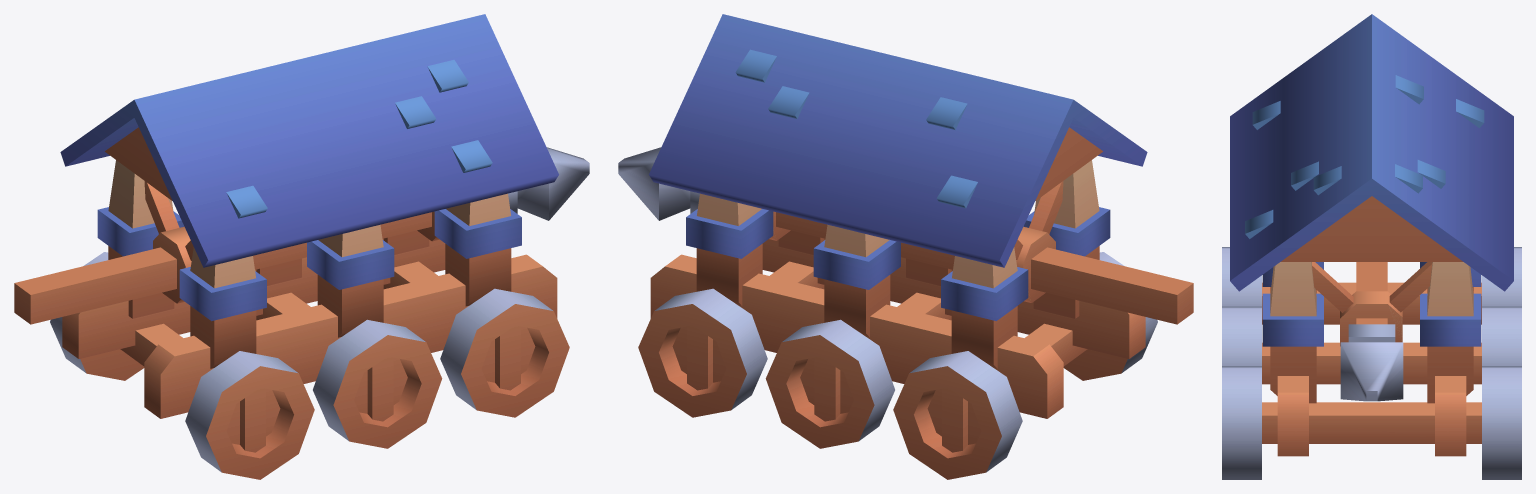
Rendered from k-castle-siege-ram.glb.
3 views of the same model, side by side, from view 1: azimuth 30°, elevation 25°; view 2: azimuth 150°, elevation 25°; view 3: azimuth 270°, elevation 25° (orthographic). The views are drawn at different scales.
Visible parts, largest first — view 1: siege-ram, wheel (×4), ram; view 2: siege-ram, wheel (×4), ram; view 3: siege-ram, wheel (×6), ram.
Part boxes in pixels (left/top/right/bottom): siege-ram: left=60, top=14, right=558, bottom=418; wheel (×4): left=50, top=252, right=569, bottom=479; ram: left=14, top=147, right=589, bottom=324; siege-ram: left=649, top=14, right=1147, bottom=418; wheel (×4): left=638, top=252, right=1157, bottom=479; ram: left=618, top=147, right=1193, bottom=324; siege-ram: left=1230, top=14, right=1513, bottom=456; wheel (×6): left=1222, top=247, right=1521, bottom=479; ram: left=1340, top=262, right=1403, bottom=401.
Size of the model in its own units: 2.09 by 1.18 by 1.
1 material, 1 textured.
